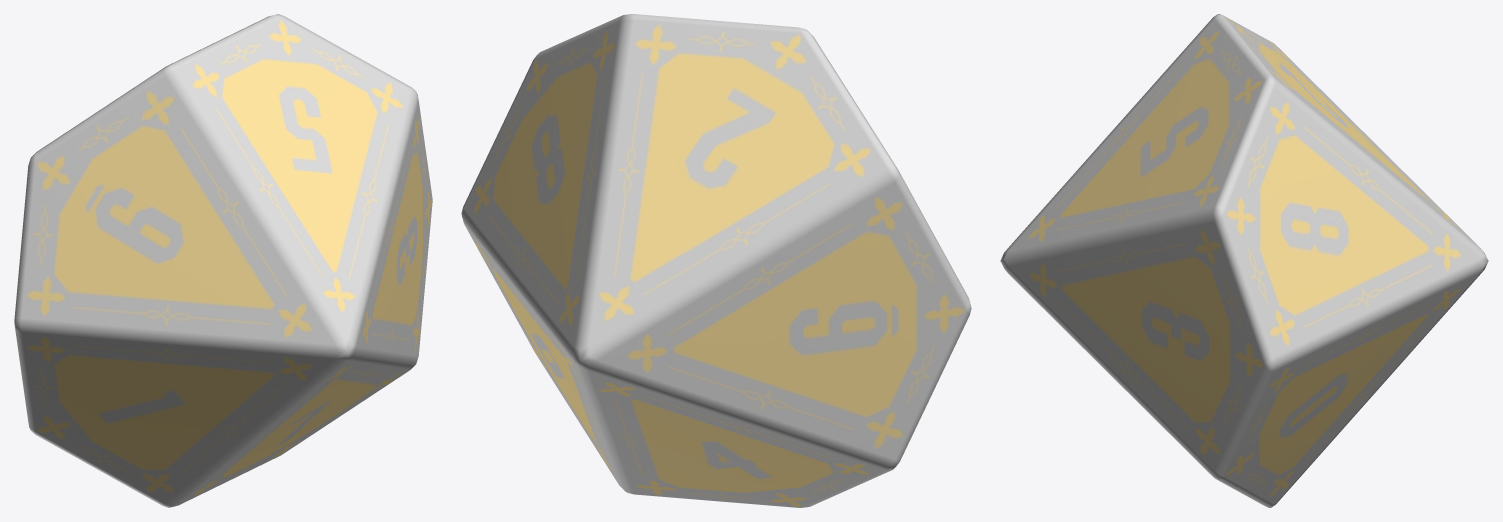
The model's file is dicemodel_d10.gltf.
The picture shows the model from 3 angles, left to right: view 1: azimuth 30°, elevation 25°; view 2: azimuth 150°, elevation 25°; view 3: azimuth 270°, elevation 25°; orthographic projection. The views are drawn at different scales.
Parts seen in each view (by area): view 1: dicemodel_d10; view 2: dicemodel_d10; view 3: dicemodel_d10.
Boxes of the visible parts, box(x1,y1,x2,y2) form: dicemodel_d10: box(14, 14, 432, 507); dicemodel_d10: box(461, 14, 971, 507); dicemodel_d10: box(1000, 14, 1488, 507).
Bounding box in the file's own units: 171 × 163 × 167.
1 material, 1 textured.
